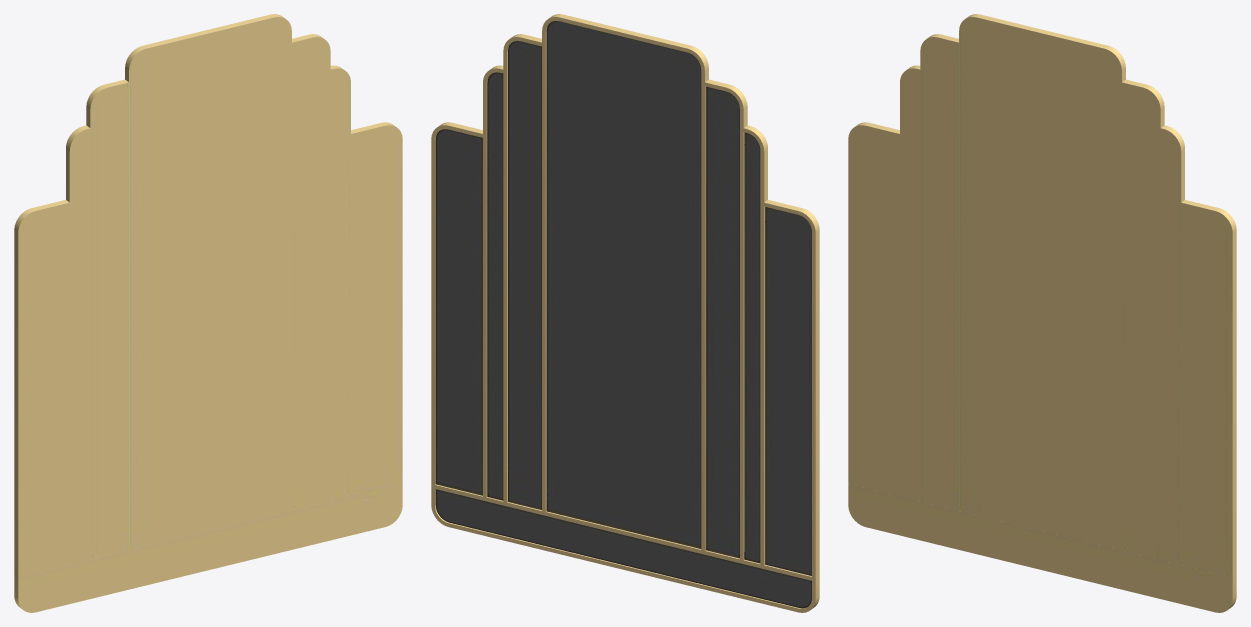
The model's file is mirror.glb.
The picture shows the model from 3 angles, left to right: view 1: azimuth 30°, elevation 25°; view 2: azimuth 150°, elevation 25°; view 3: azimuth 330°, elevation 25°; orthographic projection.
Visible parts, largest first — view 1: glass1_low, glass4_low, glass2_low, glass3_low, glass5_low; view 2: glass1_low, glass4_low, glass2_low, glass3_low, glass5_low; view 3: glass1_low, glass4_low, glass2_low, glass3_low, glass5_low.
Part boxes in pixels (x1=…): glass1_low: x1=125, y1=14, x2=291, y2=550; glass4_low: x1=14, y1=122, x2=402, y2=577; glass2_low: x1=86, y1=34, x2=330, y2=560; glass3_low: x1=66, y1=65, x2=350, y2=565; glass5_low: x1=14, y1=484, x2=402, y2=612; glass1_low: x1=542, y1=14, x2=708, y2=550; glass4_low: x1=431, y1=122, x2=819, y2=577; glass2_low: x1=503, y1=34, x2=747, y2=560; glass3_low: x1=483, y1=65, x2=767, y2=565; glass5_low: x1=431, y1=484, x2=819, y2=612; glass1_low: x1=959, y1=14, x2=1125, y2=550; glass4_low: x1=848, y1=122, x2=1236, y2=577; glass2_low: x1=920, y1=34, x2=1164, y2=560; glass3_low: x1=900, y1=65, x2=1184, y2=565; glass5_low: x1=848, y1=484, x2=1236, y2=612.
Size of the model in its own units: 0.9736 by 1.3 by 0.0174.
1 material, 1 textured.
